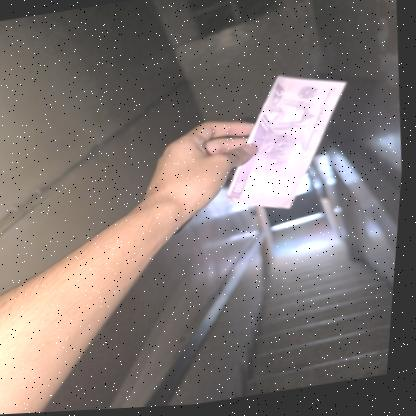one_hundred-back-vef: (214, 67, 362, 222)
